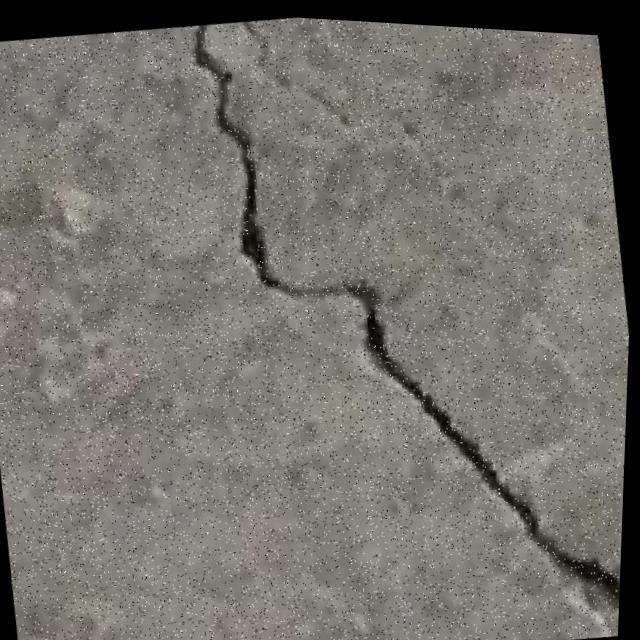Crack: (160, 8, 640, 640)
